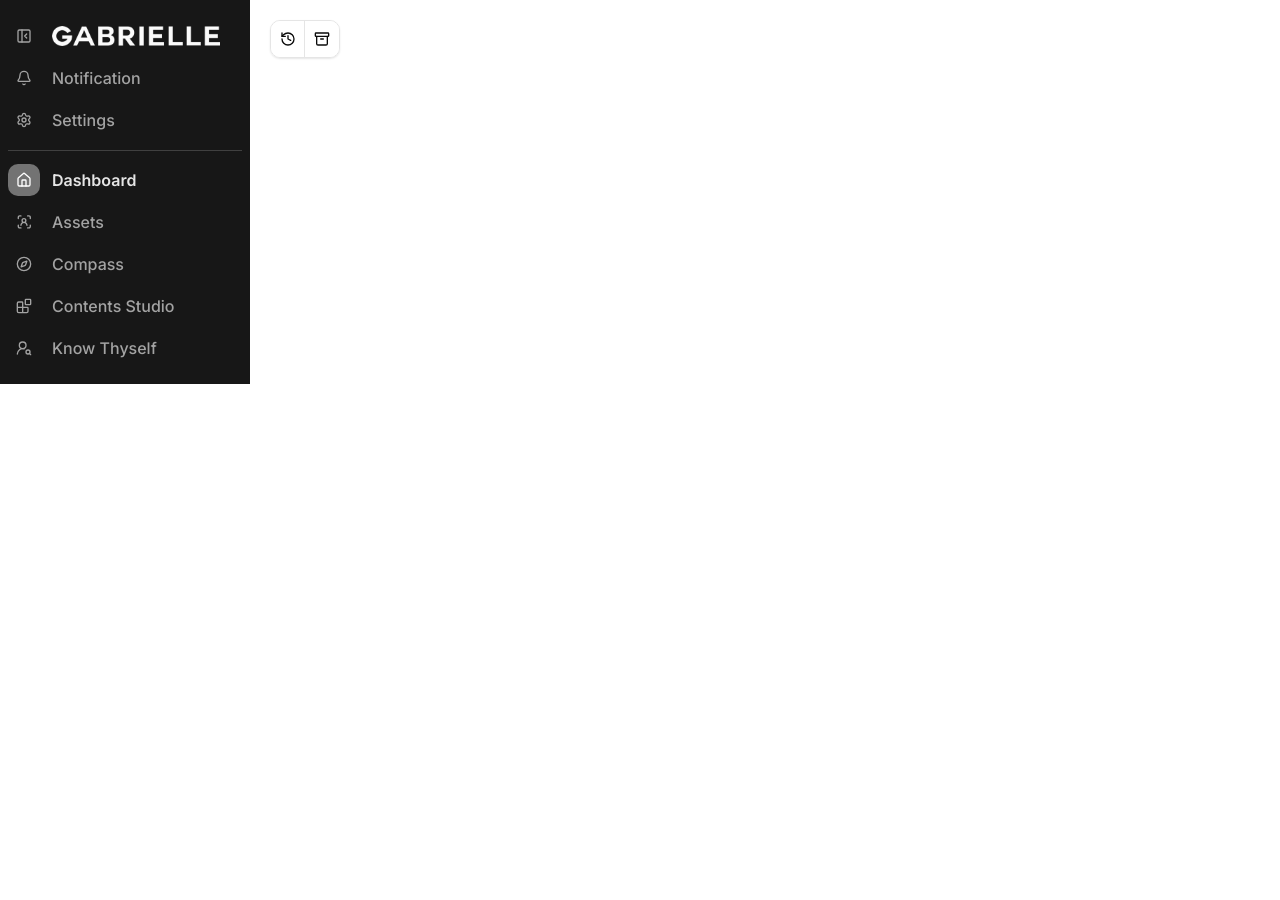
Test: Gnb › jumps to the Setting panel's Notification section from the notification dropdown's gear icon
Click the button "Notification" at (125, 78), box [8, 62, 242, 94]
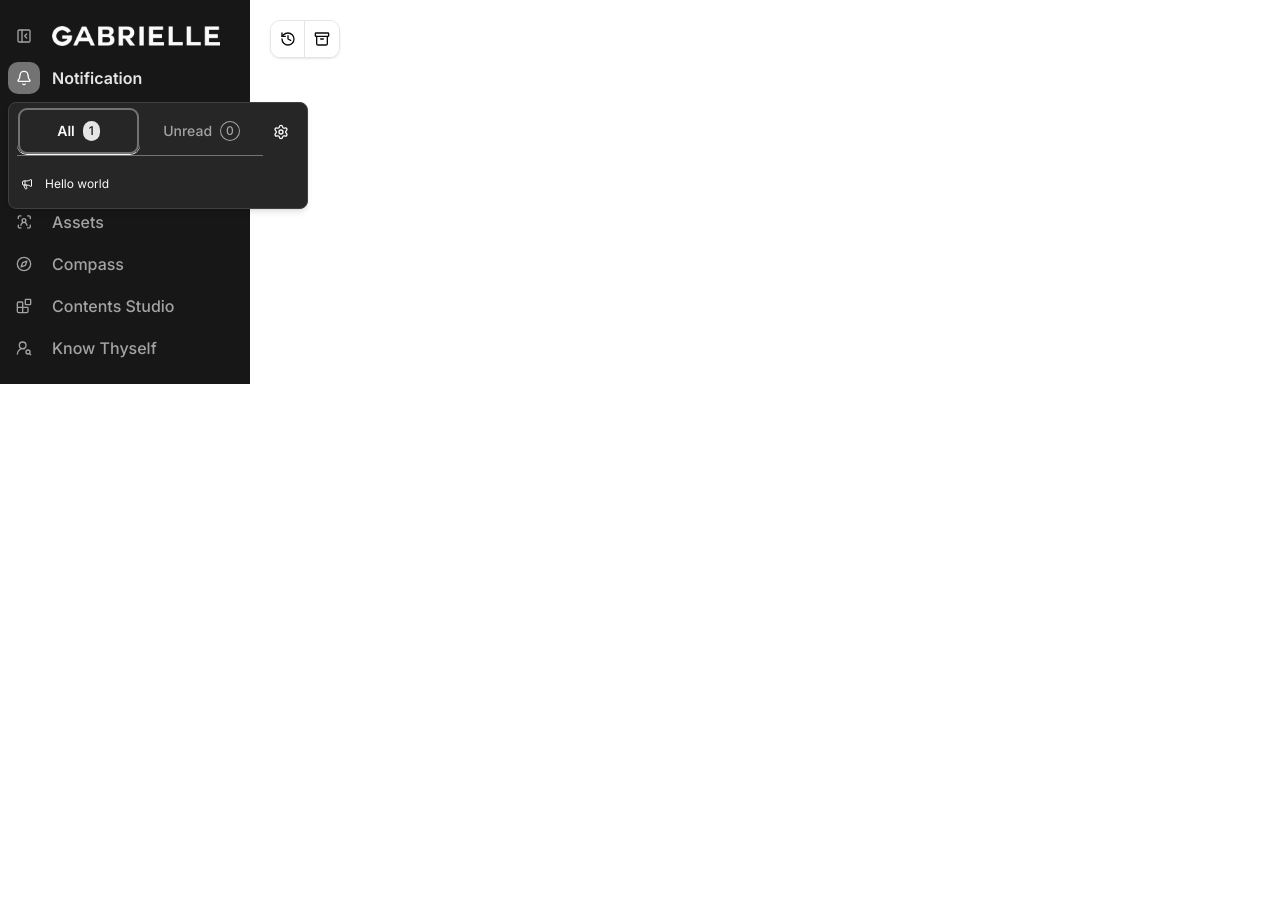
Click the button named "Notification settings" at (281, 132), box [263, 114, 299, 150]
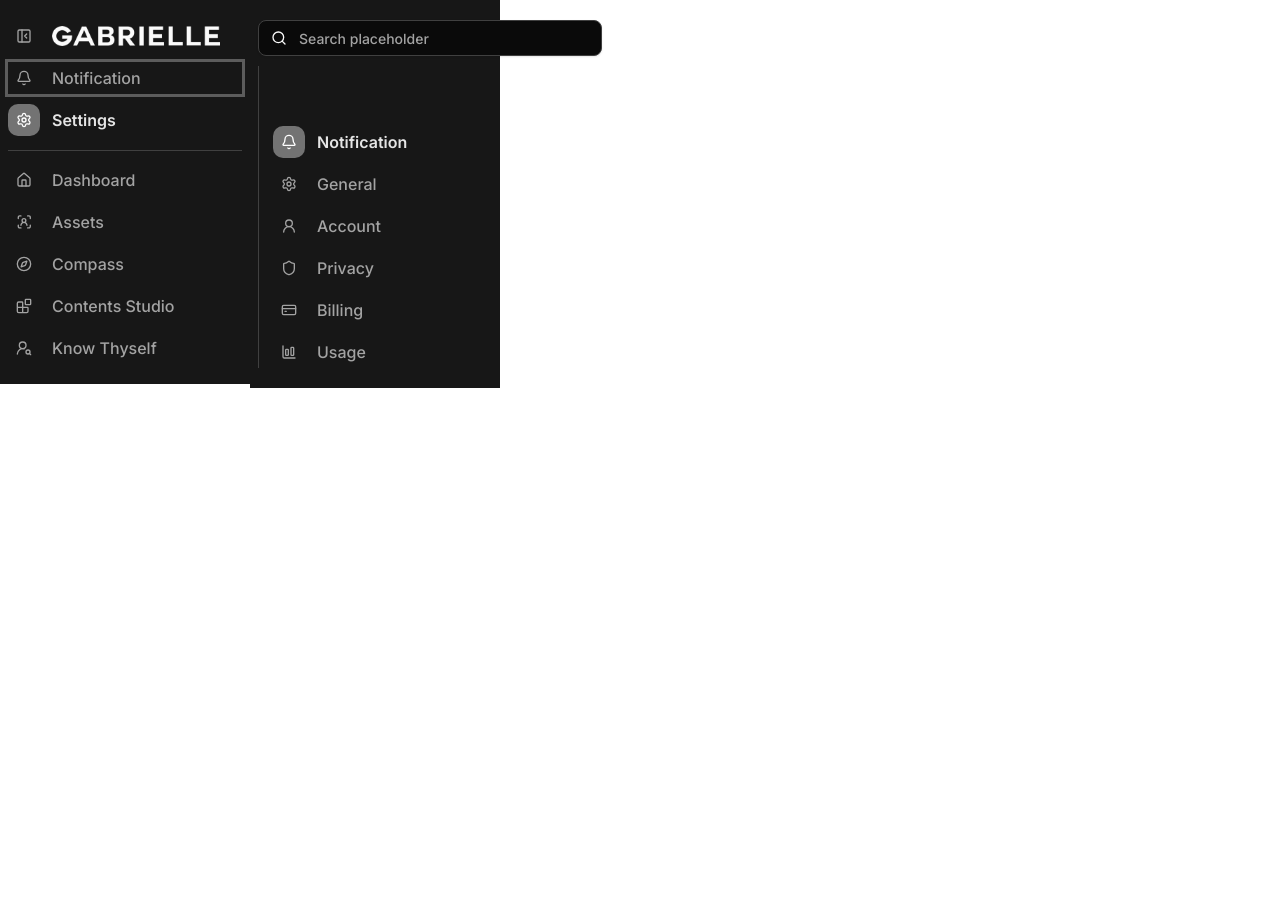
Result: the button "Hello world" is gone
